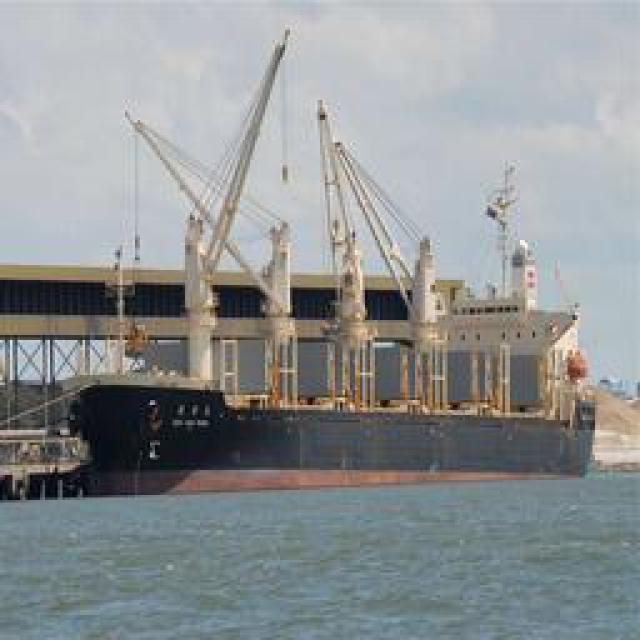Ship: (114, 76, 597, 471)
